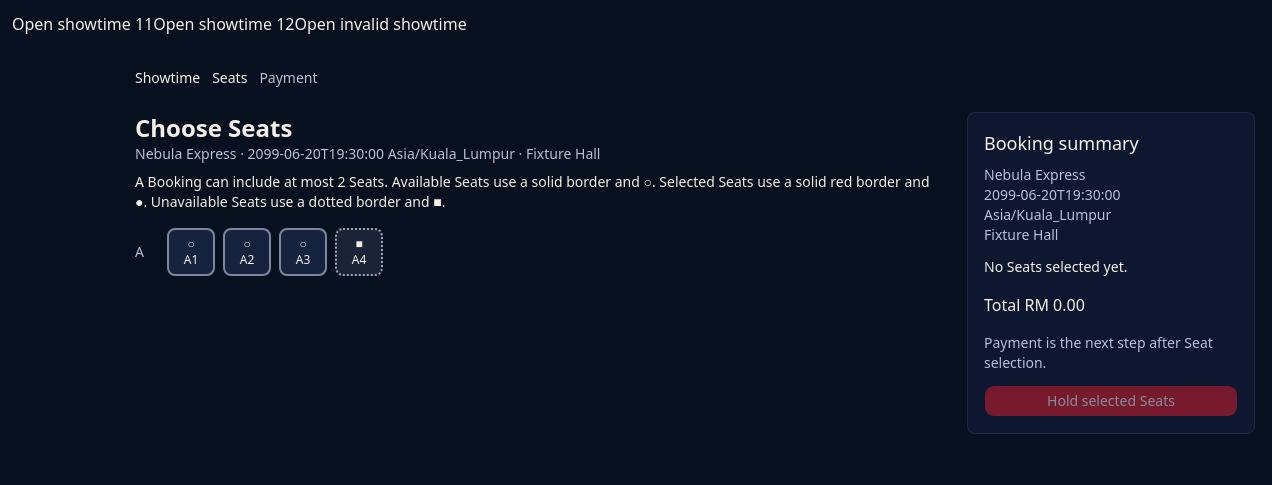
Test: SeatSelectionPage › clears the previous Seat Map when the Showtime route is invalid
Click the button named "Seat A1, available" at point(191, 252), box [167,228,215,276]
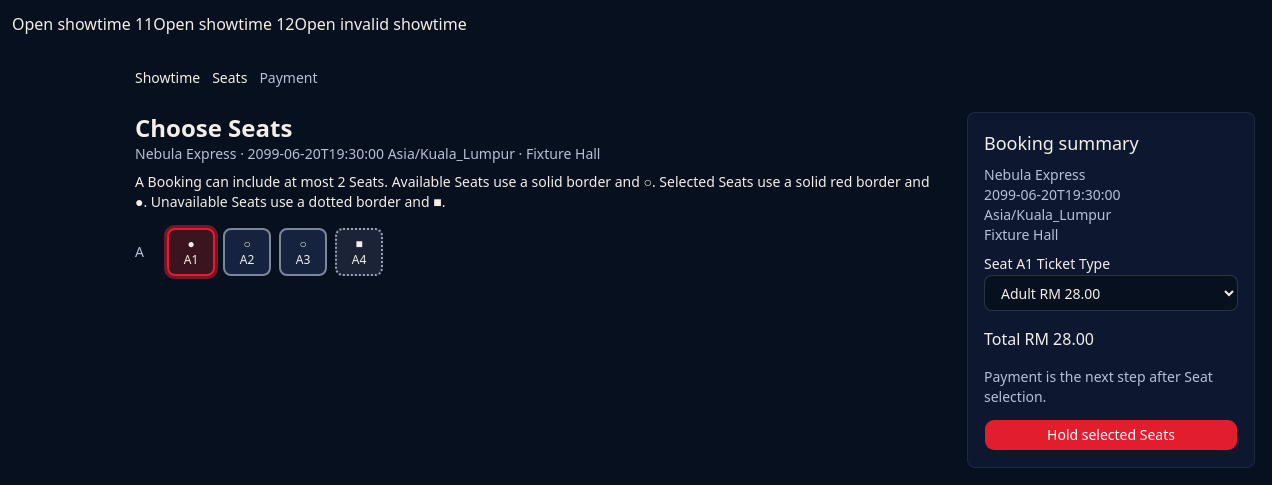
Check: the button named "Seat A1, selected" is shown, box [167,228,215,276]
Click the link "Open invalid showtime" at point(381, 24), box [294,13,467,35]
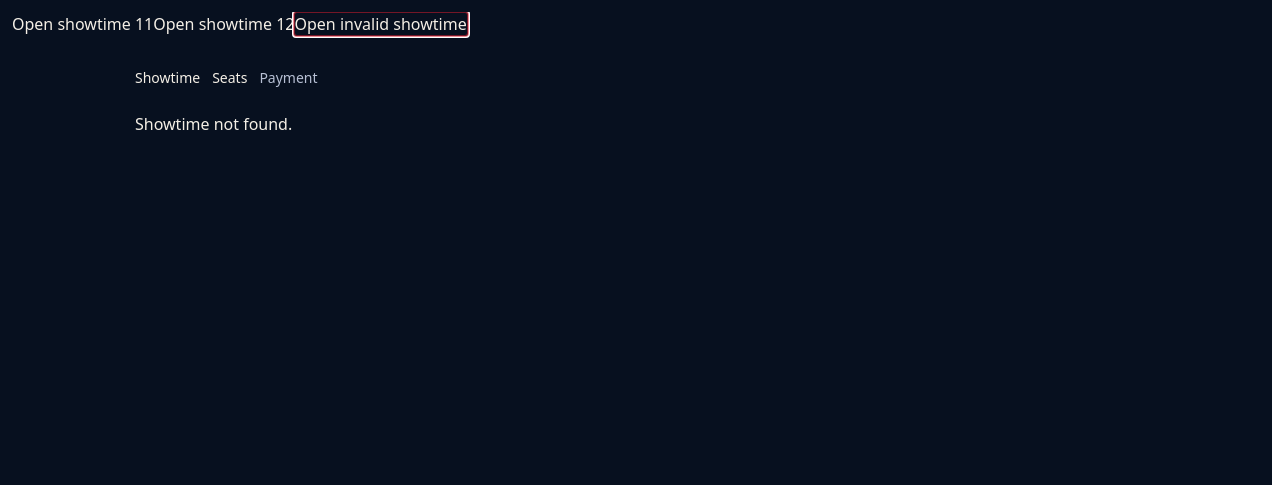
Check: the message reads "Showtime not found.", box [135,113,292,135]
